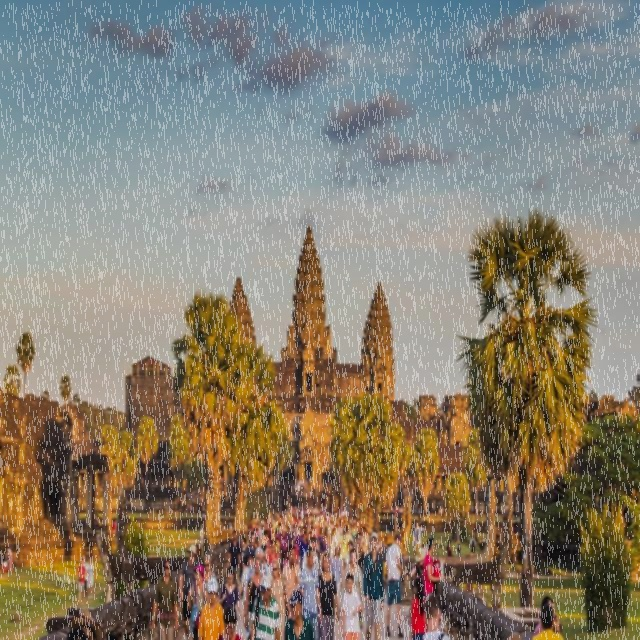pessoa: (150, 556, 180, 640), (362, 530, 384, 640), (385, 532, 407, 640), (178, 542, 202, 639), (298, 545, 322, 639), (250, 573, 282, 639), (318, 552, 340, 639), (197, 574, 226, 639), (270, 557, 292, 639), (280, 544, 302, 623), (275, 510, 361, 530), (186, 562, 208, 640), (532, 590, 566, 639), (284, 588, 316, 640), (244, 554, 264, 634), (342, 548, 366, 612), (341, 573, 364, 639), (421, 591, 452, 639), (218, 566, 244, 620), (64, 605, 104, 639), (352, 532, 366, 628), (237, 548, 256, 614), (423, 536, 443, 598), (410, 572, 428, 640), (329, 542, 344, 622), (218, 604, 243, 640), (246, 546, 268, 586), (227, 528, 241, 588), (300, 535, 320, 577), (182, 482, 206, 514), (409, 546, 426, 584), (338, 527, 349, 581), (412, 520, 428, 556), (260, 504, 276, 540), (328, 526, 342, 567), (202, 553, 216, 593), (76, 556, 86, 606), (238, 534, 248, 582), (220, 476, 236, 506), (298, 530, 309, 572), (86, 556, 96, 600), (279, 526, 289, 564), (81, 554, 89, 600), (258, 542, 270, 571), (245, 530, 258, 556), (370, 528, 382, 556), (317, 526, 329, 553), (386, 501, 404, 519), (360, 524, 370, 556), (268, 540, 280, 566), (287, 528, 303, 547), (290, 502, 326, 510), (313, 538, 320, 577), (344, 540, 354, 564), (5, 544, 13, 572), (326, 484, 342, 498), (254, 511, 260, 547), (299, 474, 312, 490), (511, 510, 517, 538), (0, 554, 8, 574), (469, 534, 477, 554), (382, 548, 387, 580), (306, 528, 320, 539), (281, 494, 291, 509), (194, 540, 202, 558), (335, 522, 341, 544), (295, 546, 301, 566), (414, 507, 422, 522), (456, 541, 462, 560), (292, 480, 298, 498), (250, 516, 256, 532), (382, 532, 388, 548), (438, 505, 444, 521), (446, 536, 452, 551), (200, 524, 204, 546), (323, 528, 332, 537), (276, 528, 282, 540), (111, 519, 116, 532), (480, 532, 486, 542), (246, 530, 250, 544), (349, 528, 357, 535), (228, 522, 234, 530), (498, 530, 502, 542), (420, 542, 426, 550), (338, 528, 344, 536), (352, 534, 356, 546), (222, 522, 226, 530), (322, 476, 326, 484), (410, 504, 412, 519), (356, 528, 362, 532), (338, 504, 342, 510), (329, 536, 331, 546), (331, 503, 334, 509), (302, 528, 306, 532)
